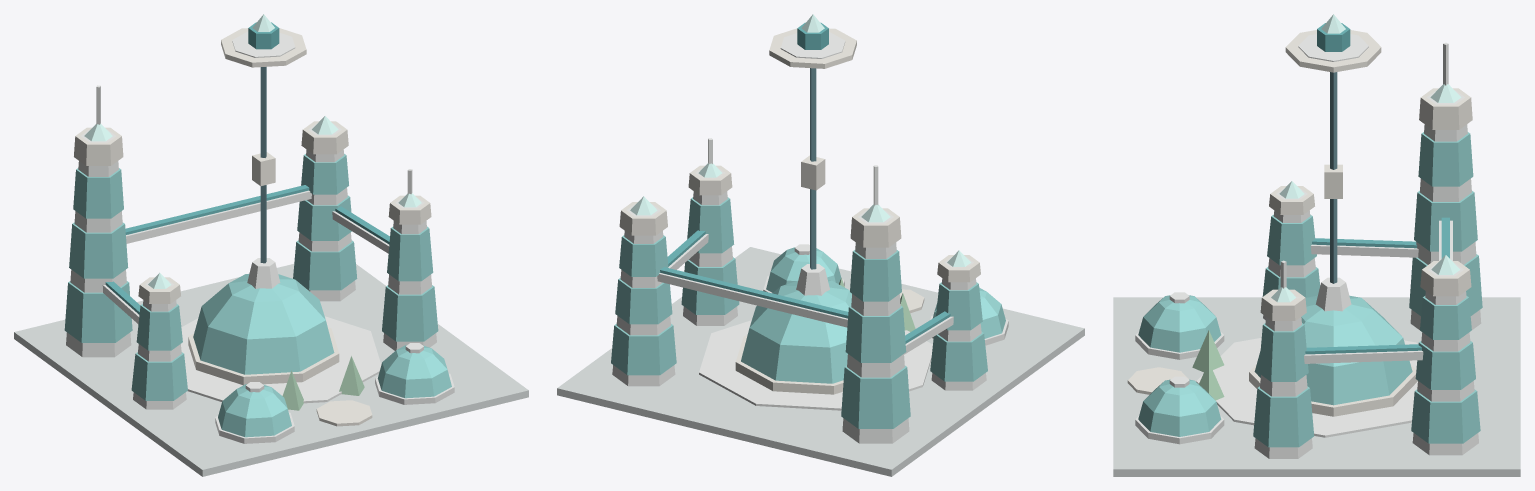
The model's file is capital.glb.
3 renders of one model, left to right at view 1: azimuth 30°, elevation 25°; view 2: azimuth 150°, elevation 25°; view 3: azimuth 270°, elevation 25°, orthographic. The views are drawn at different scales.
Visible parts, largest first — view 1: arcology_capital; view 2: arcology_capital; view 3: arcology_capital.
Boxes of the visible parts, bbox=[...] form: arcology_capital: bbox=[14, 14, 528, 476]; arcology_capital: bbox=[557, 14, 1084, 476]; arcology_capital: bbox=[1113, 14, 1520, 476].
Bounding box in the file's own units: 0.98 × 1 × 0.98.
